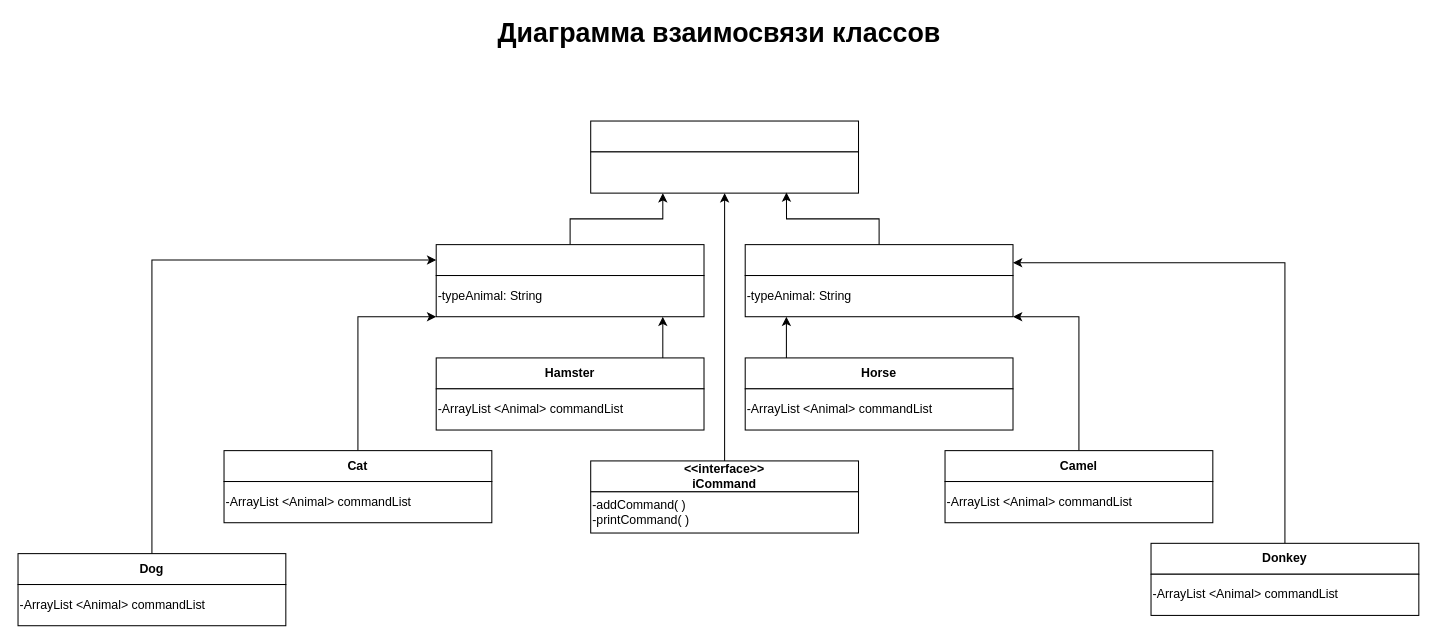
Some shapes in this 1437 by 644 pixel diagram are drawn without their labels. Here are the shapes that lost their labels. From the top down, the centre of each, then its label:
(x=724, y=136): <<abstract>> Animal
(x=724, y=172): -name: String -dateOfBirthday: String
(x=569, y=260): <<abstract>> Pets
(x=878, y=260): <<abstract>> PackAnimals
